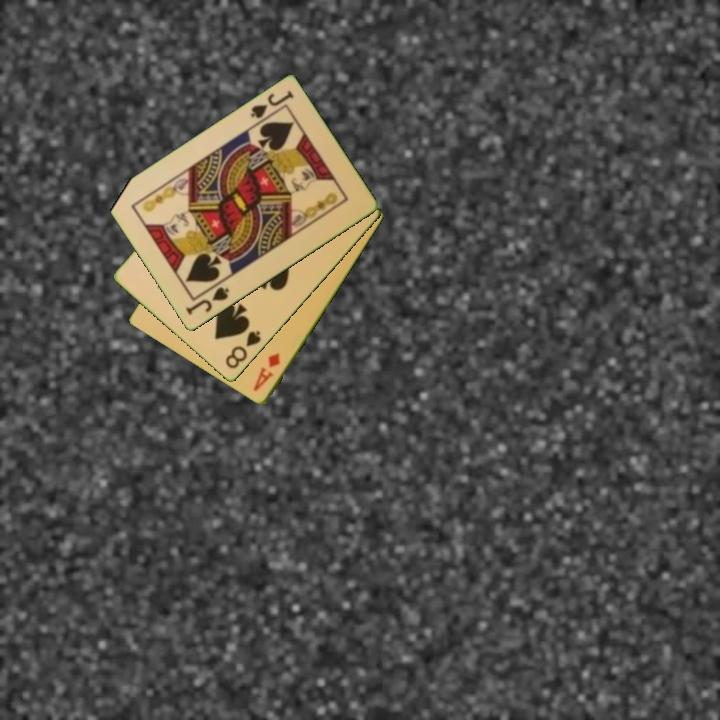8s: (222, 327, 264, 372)
Ad: (250, 350, 283, 394)
Js: (247, 87, 297, 122), (182, 284, 232, 318)
